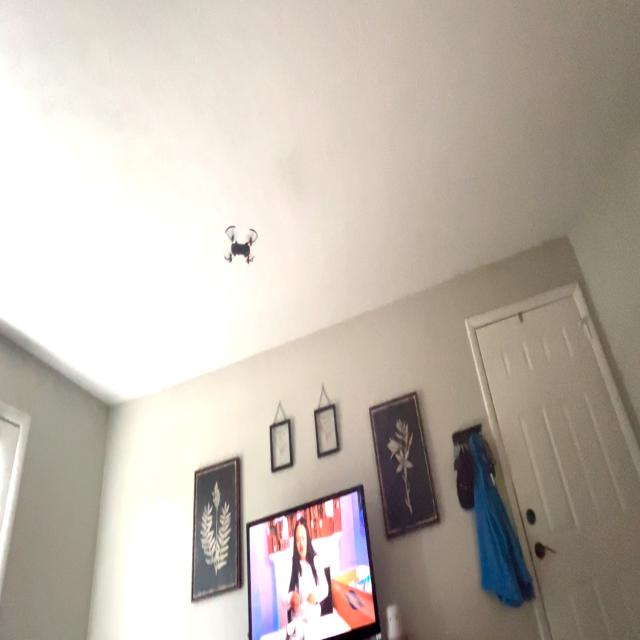drone: (216, 210, 261, 282)
